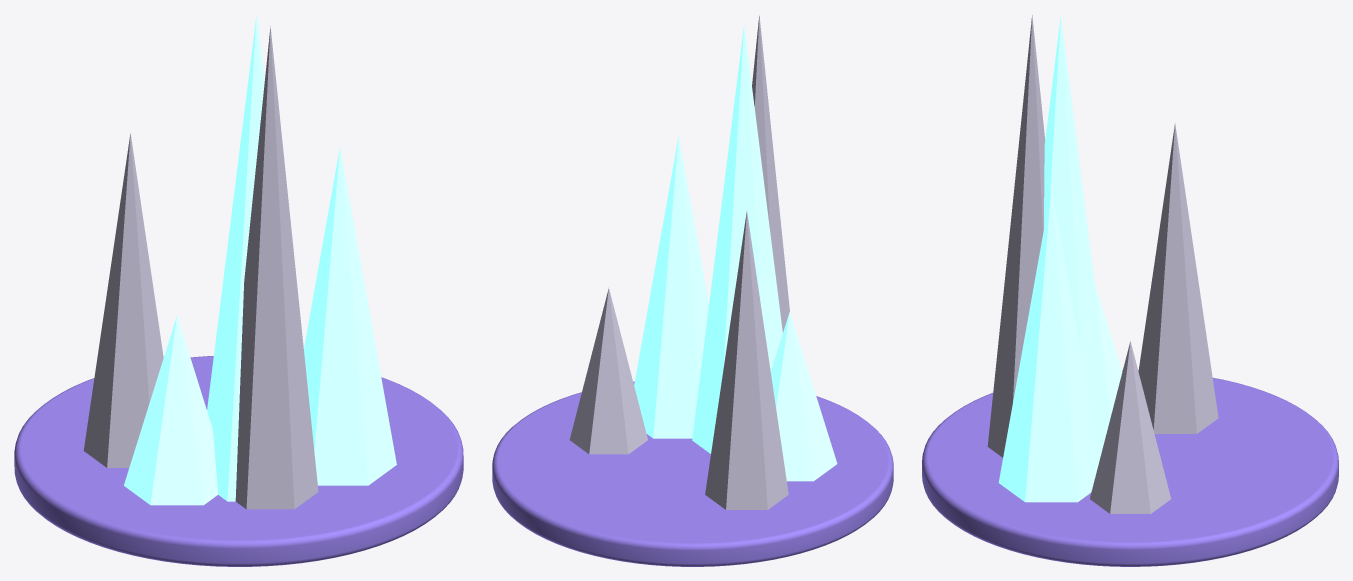
Rendered from theme_04.glb.
3 views of the same model, side by side, from view 1: azimuth 30°, elevation 25°; view 2: azimuth 150°, elevation 25°; view 3: azimuth 270°, elevation 25° (orthographic). The views are drawn at different scales.
Visible parts, largest first — view 1: theme_04; view 2: theme_04; view 3: theme_04.
Part boxes in pixels (left/top/right/bottom): theme_04: left=14, top=15, right=463, bottom=566; theme_04: left=492, top=15, right=893, bottom=566; theme_04: left=922, top=15, right=1338, bottom=566.
Size of the model in its own units: 1.24 by 1.5 by 1.24.
